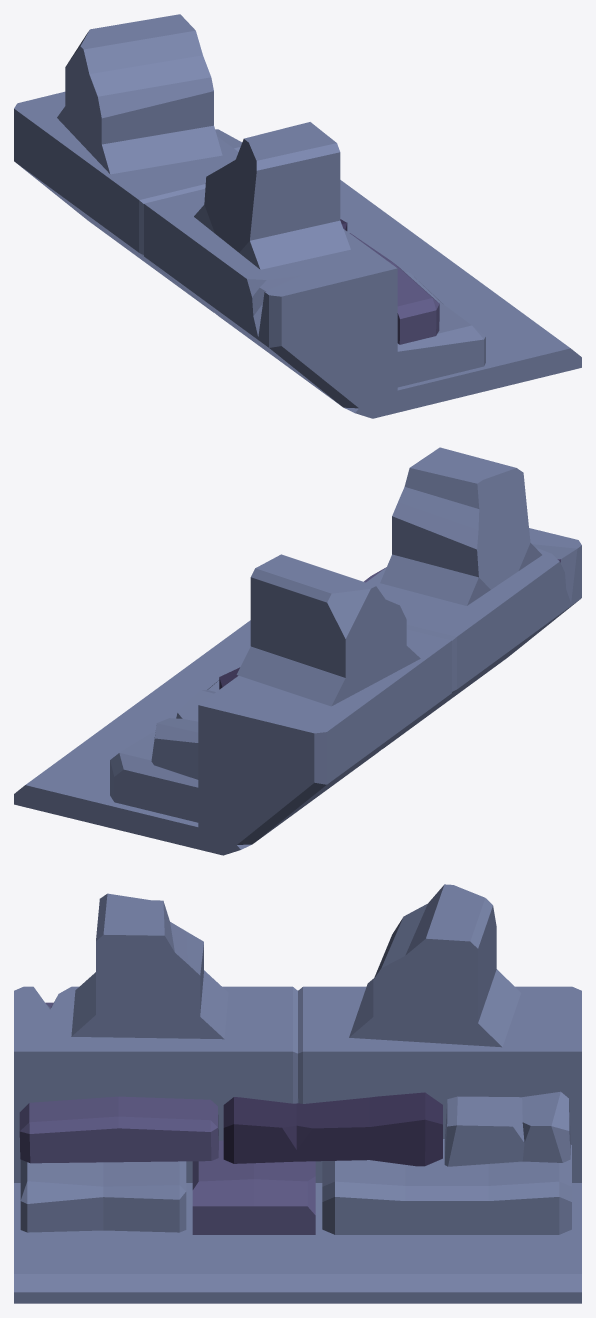
File: Wall_Top_3.fbx
3 renders of one model, top to bottom at view 1: azimuth 30°, elevation 25°; view 2: azimuth 150°, elevation 25°; view 3: azimuth 270°, elevation 25°, orthographic. The views are drawn at different scales.
Parts seen in each view (by area): view 1: Wall_Top_3; view 2: Wall_Top_3; view 3: Wall_Top_3.
Boxes of the visible parts, bbox=[...] form: Wall_Top_3: bbox=[14, 14, 581, 418]; Wall_Top_3: bbox=[14, 447, 581, 855]; Wall_Top_3: bbox=[14, 884, 581, 1303].
Size of the model in its own units: 546 by 413 by 810.
